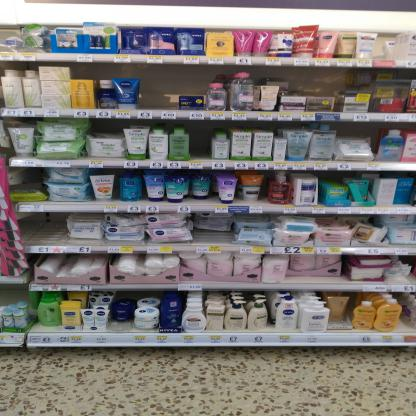Void: (291, 66, 347, 92), (142, 67, 175, 108), (26, 214, 63, 244), (77, 64, 128, 78), (191, 123, 210, 160), (193, 228, 232, 244), (186, 68, 206, 94), (339, 124, 377, 136), (18, 166, 40, 185), (258, 69, 284, 78)
